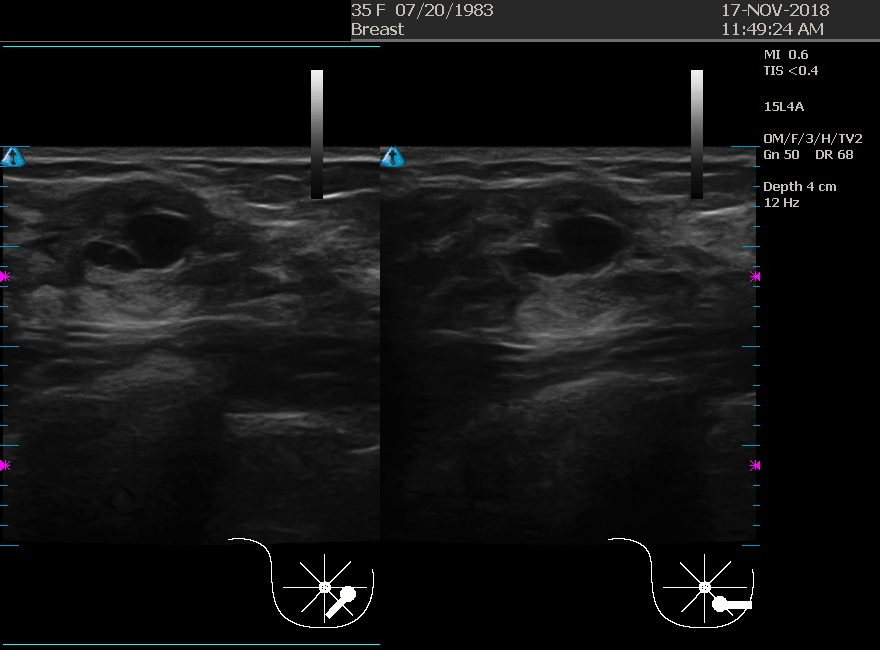BIRADS_4: (28, 149, 228, 349), (451, 151, 651, 351)
